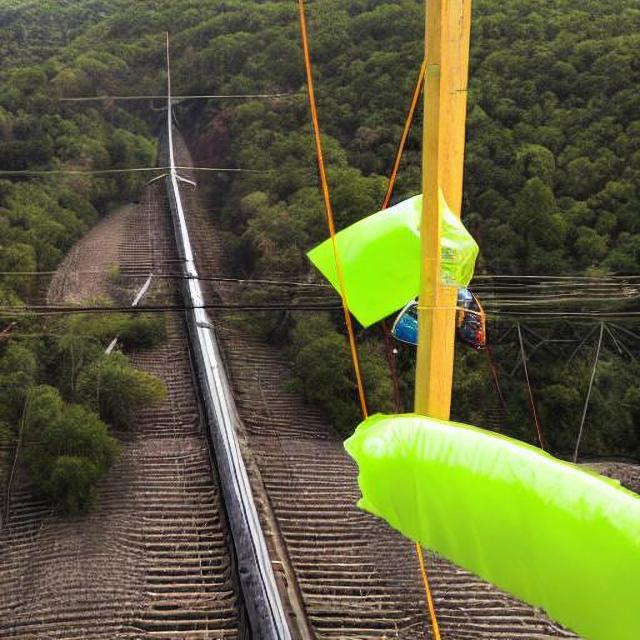floating object: (337, 410, 630, 631), (304, 190, 481, 352)
